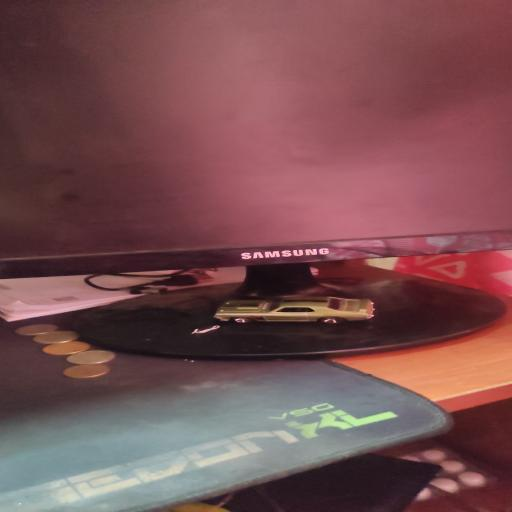Carrito: (214, 296, 373, 324)
